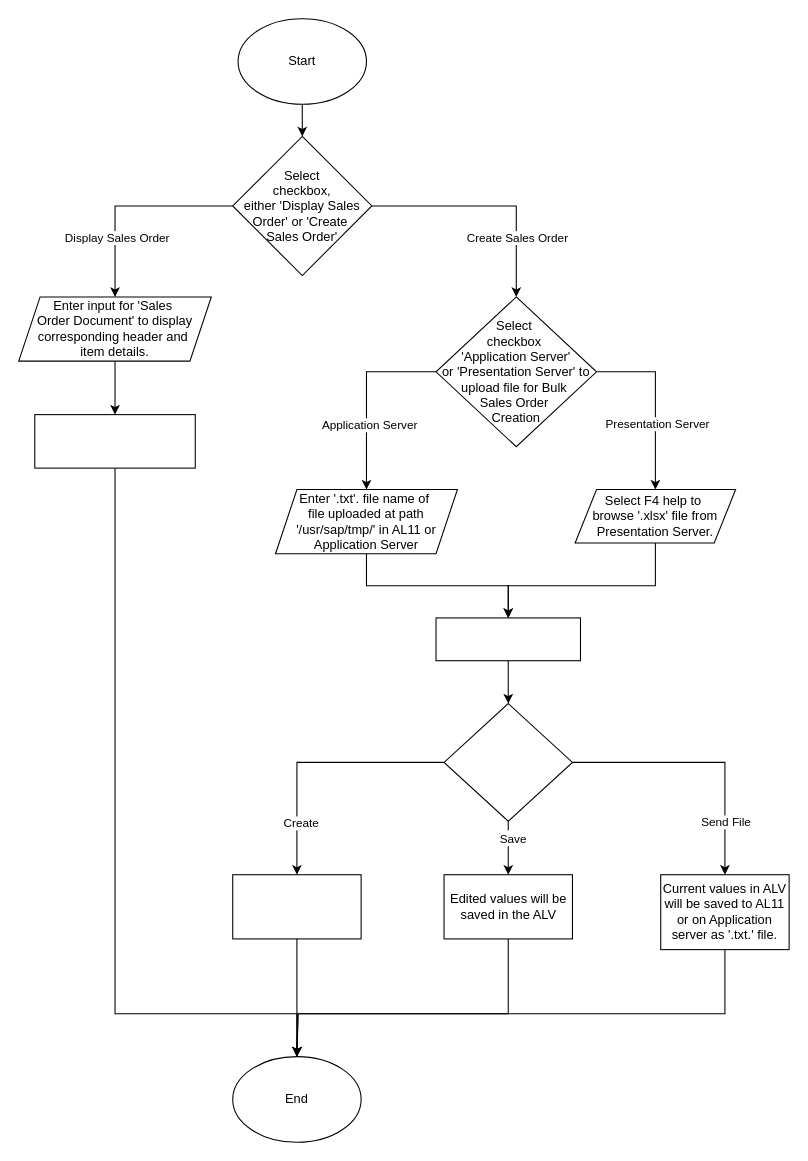
The diagram is 808 pixels wide and 1161 high, and some of its shapes have lost their labels. Here are the shapes that lost their labels. From the top down, the centre of each, then its label:
At (114,441): "Display First ALV with Header Details and second ALV with Item Details".
At (507,639): "Display ALV with details of uploaded file".
At (507,761): "User can select button 'Create', 'Save' and 'Send File'".
At (296,906): "Sales Order will be created for the selected rows".
